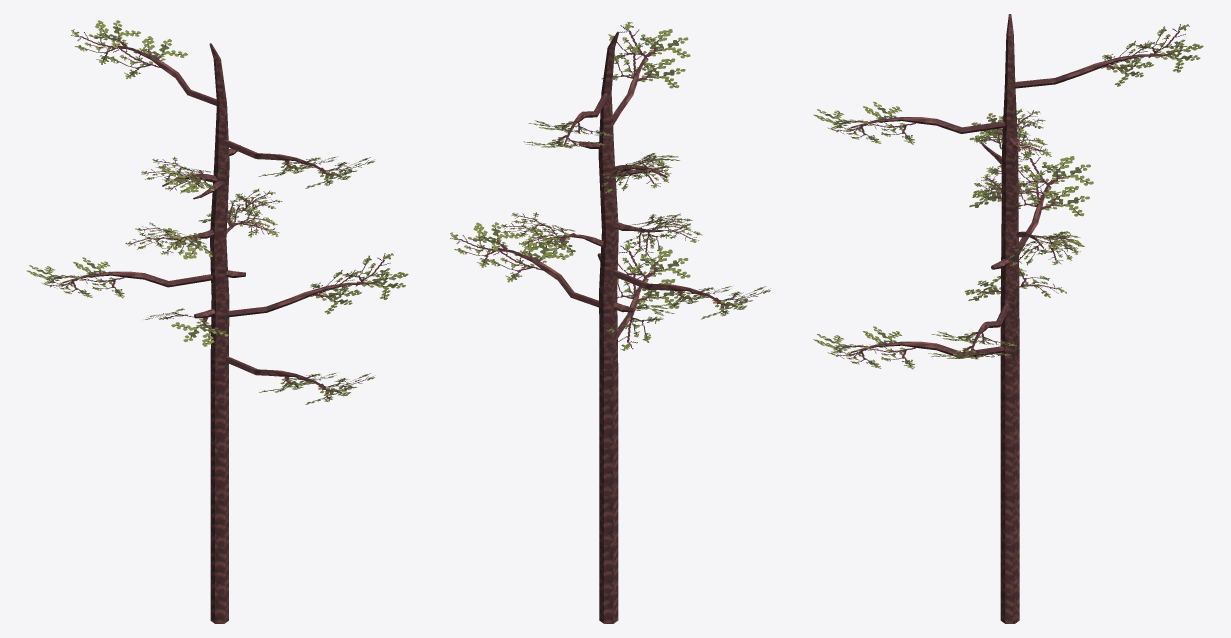
File: big_tree_01.fbx
3 renders of one model, left to right at view 1: azimuth 30°, elevation 25°; view 2: azimuth 150°, elevation 25°; view 3: azimuth 270°, elevation 25°, orthographic. The views are drawn at different scales.
Parts seen in each view (by area): view 1: big_tree_01; view 2: big_tree_01; view 3: big_tree_01.
Part boxes in pixels (box(x1,y1,x2,y2)): big_tree_01: box(26, 20, 408, 623); big_tree_01: box(450, 22, 770, 623); big_tree_01: box(813, 14, 1203, 623).
Size of the model in its own units: 4484 by 6933 by 4347.
Materials: 1 (1 with a texture image).
